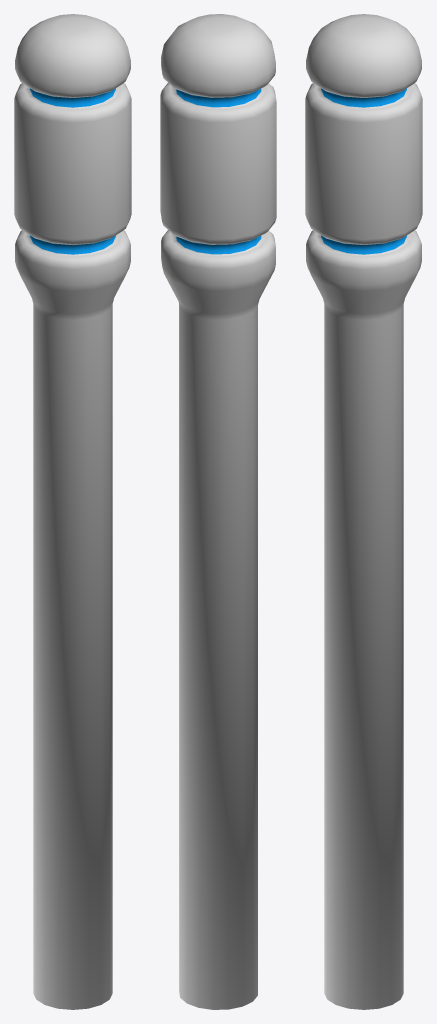
File: Pillar.fbx
The picture shows the model from 3 angles, left to right: view 1: azimuth 90°, elevation 25°; view 2: azimuth 150°, elevation 25°; view 3: azimuth 270°, elevation 25°; orthographic projection.
Visible parts, largest first — view 1: whole; view 2: whole; view 3: whole.
Part boxes in pixels (bbox=[...]): whole: bbox=[14, 14, 131, 1009]; whole: bbox=[160, 14, 276, 1009]; whole: bbox=[305, 14, 422, 1009].
Bounding box in the file's own units: 786 × 7172 × 786.
